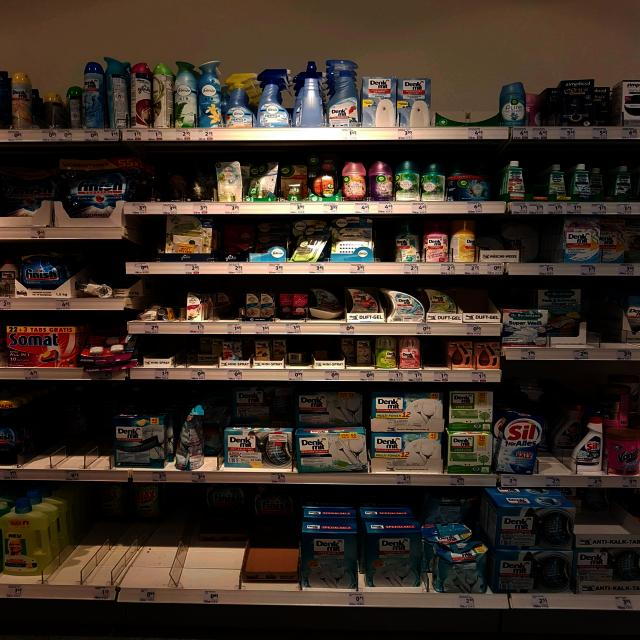empty_space: (120, 517, 192, 581), (176, 530, 249, 588), (52, 523, 119, 575), (87, 521, 150, 573), (432, 86, 500, 126), (246, 532, 293, 573), (546, 440, 568, 474), (149, 337, 175, 359)
